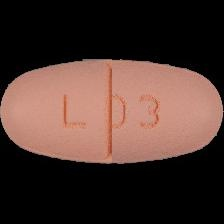68180-114: (0, 0, 224, 224)
